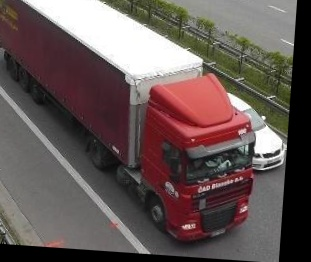truck: (0, 0, 269, 250)
